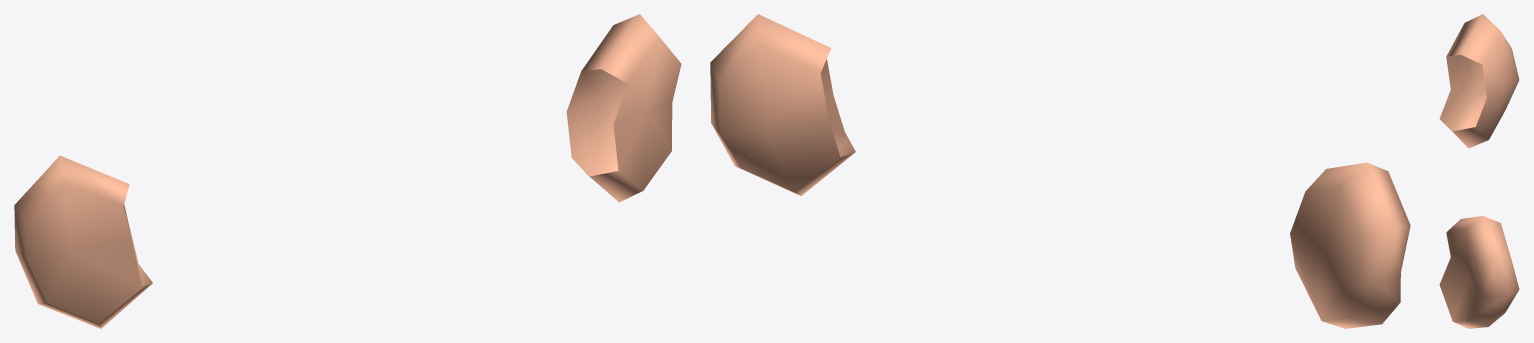
Rendered from Ears1.fbx.
3 renders of one model, left to right at view 1: azimuth 30°, elevation 25°; view 2: azimuth 150°, elevation 25°; view 3: azimuth 270°, elevation 25°, orthographic. The views are drawn at different scales.
Visible parts, largest first — view 1: Ears; view 2: Ears; view 3: Ears.
Part boxes in pixels (x1,y1,x2,y2): Ears: (14, 14, 681, 328); Ears: (710, 14, 1410, 328); Ears: (1439, 14, 1519, 328).
Bounding box in the file's own units: 57.51 × 14.61 × 8.56.
